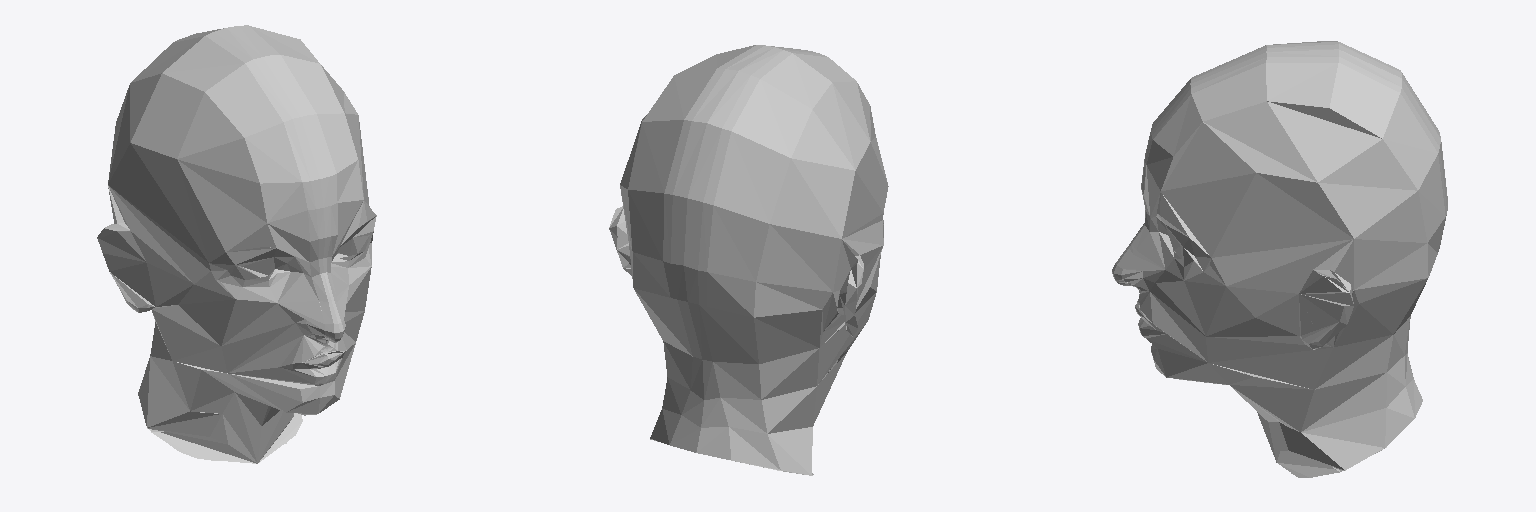
File: head.obj
The picture shows the model from 3 angles: view 1: azimuth 30°, elevation 25°; view 2: azimuth 150°, elevation 25°; view 3: azimuth 270°, elevation 25°; orthographic projection.
Parts seen in each view (by area): view 1: polySurface1; view 2: polySurface1; view 3: polySurface1.
Boxes of the visible parts, x1,y1,x2,y2 form: polySurface1: [97, 25, 376, 463]; polySurface1: [609, 45, 888, 475]; polySurface1: [1112, 41, 1447, 477].
Size of the model in its own units: 4.44 by 7.03 by 5.19.